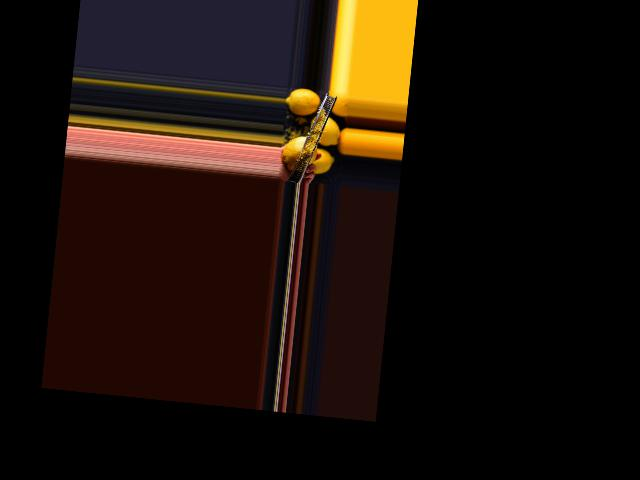lemon: (284, 87, 320, 122)
